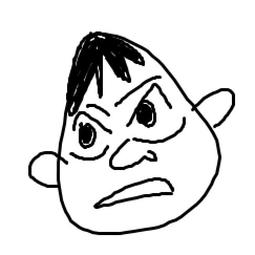ear: (19, 142, 64, 192), (195, 85, 240, 131)
eye: (124, 83, 185, 146), (73, 112, 112, 165)
frowning_eyebrow: (116, 70, 163, 107), (87, 101, 110, 117)
nose: (106, 138, 159, 173)
open_mouth: (92, 174, 182, 211)
